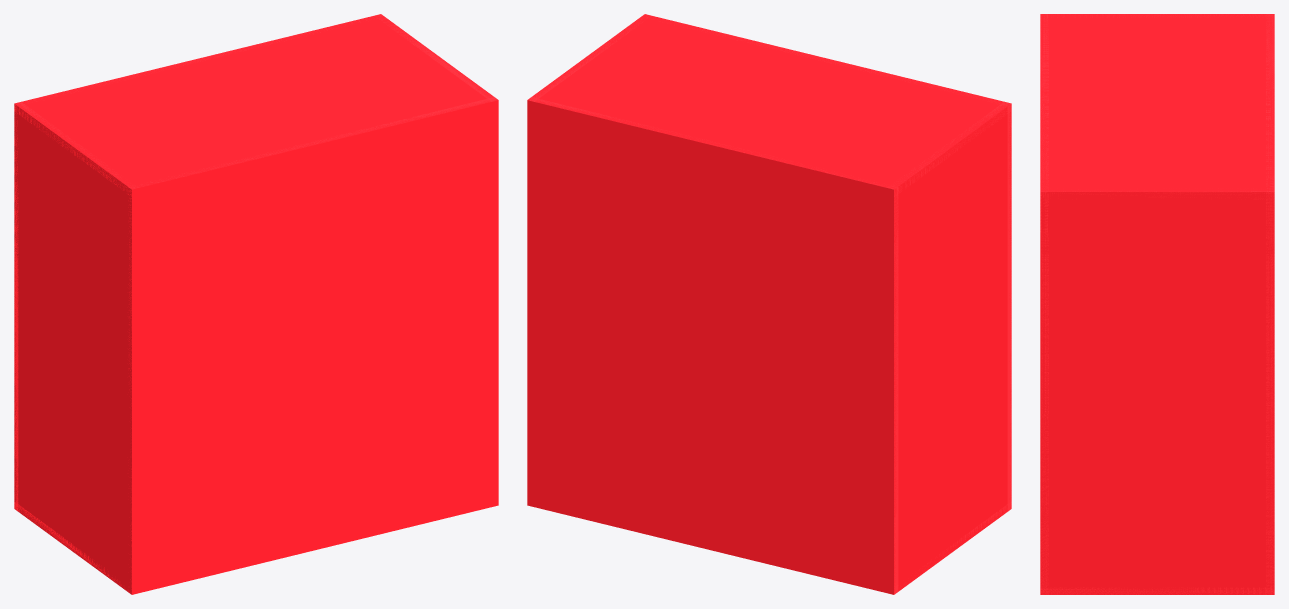
File: red-glass-v1.glb
The picture shows the model from 3 angles, left to right: view 1: azimuth 30°, elevation 25°; view 2: azimuth 150°, elevation 25°; view 3: azimuth 270°, elevation 25°; orthographic projection.
Parts seen in each view (by area): view 1: wall/red-glass-v1; view 2: wall/red-glass-v1; view 3: wall/red-glass-v1.
Part boxes in pixels (x1,y1,x2,y2): wall/red-glass-v1: (14, 14, 498, 594); wall/red-glass-v1: (527, 14, 1011, 594); wall/red-glass-v1: (1040, 14, 1274, 594).
Size of the model in its own units: 1.8 by 1.9 by 1.
